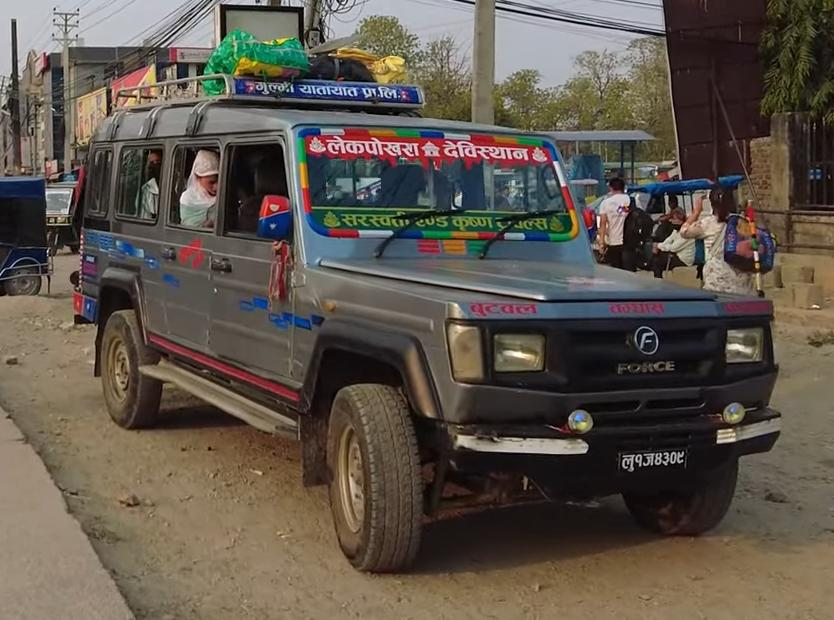SUV: (65, 73, 781, 586)
